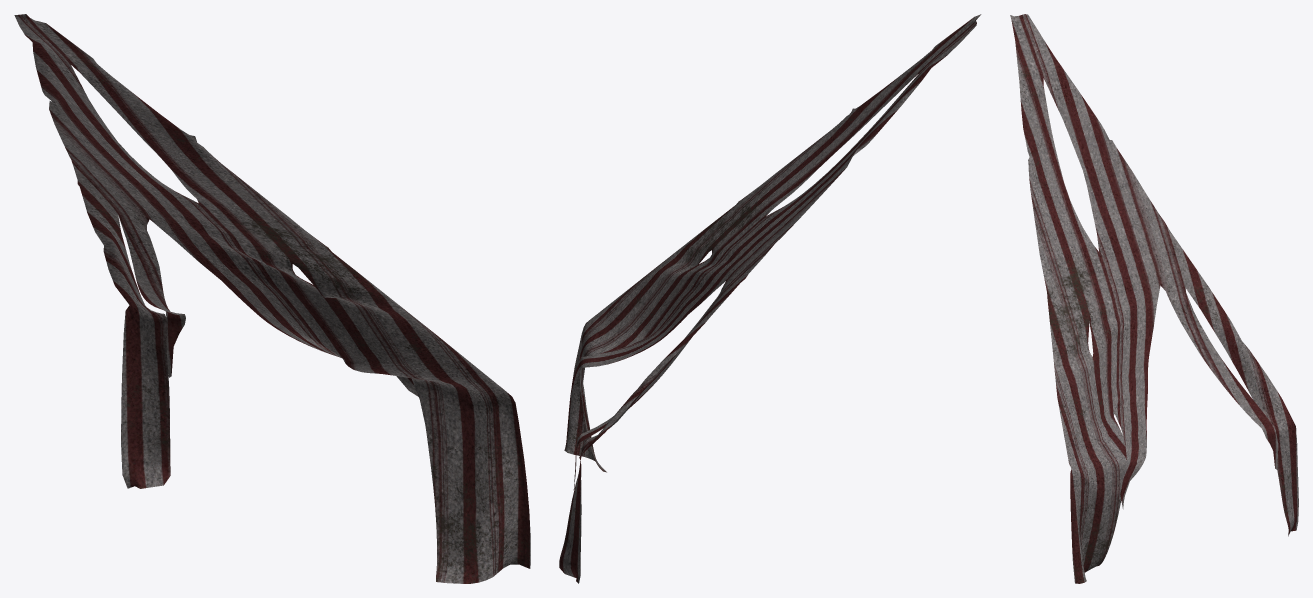
The model's file is Tent_P_Rag03.FBX.
The picture shows the model from 3 angles, left to right: view 1: azimuth 30°, elevation 25°; view 2: azimuth 150°, elevation 25°; view 3: azimuth 270°, elevation 25°; orthographic projection. The views are drawn at different scales.
Visible parts, largest first — view 1: Tent_P_Rag03; view 2: Tent_P_Rag03; view 3: Tent_P_Rag03.
Part boxes in pixels (bbox=[...]): Tent_P_Rag03: bbox=[14, 14, 530, 583]; Tent_P_Rag03: bbox=[559, 14, 981, 583]; Tent_P_Rag03: bbox=[1010, 14, 1298, 583].
Bounding box in the file's own units: 1373 × 1728 × 1076.
